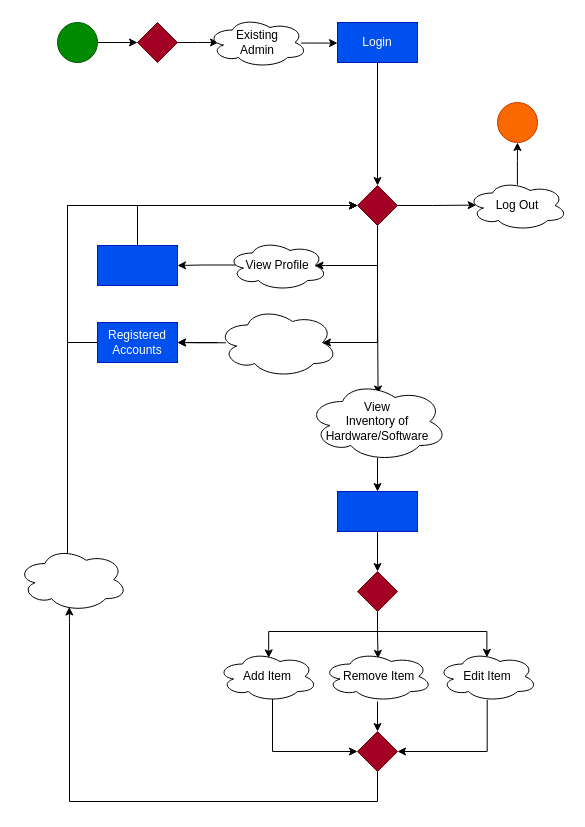
Some shapes in this 585 by 827 pixel diagram are drawn without their labels. Each missing label, with the centre of its shape:
Inventory: the point at 377,511
Profile Settings: the point at 137,265
Return to Menu: the point at 72,579
View Registered Users: the point at 277,342
